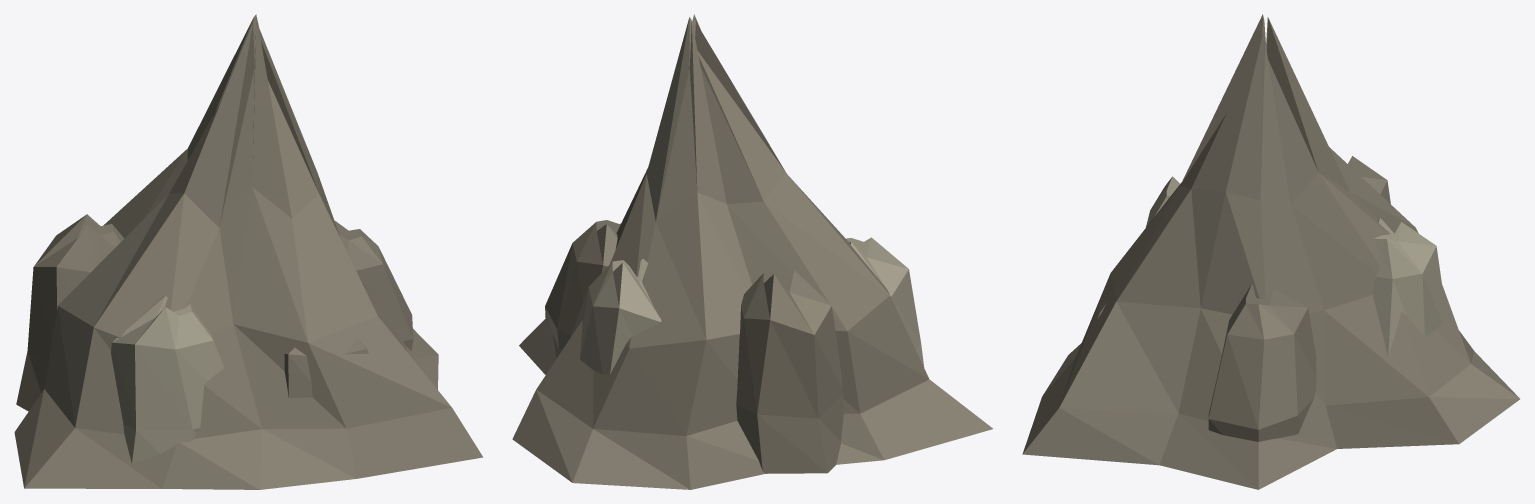
Rendered from rocky-peak.glb.
The picture shows the model from 3 angles, left to right: view 1: azimuth 30°, elevation 25°; view 2: azimuth 150°, elevation 25°; view 3: azimuth 270°, elevation 25°; orthographic projection. The views are drawn at different scales.
Parts seen in each view (by area): view 1: rocky-peak; view 2: rocky-peak; view 3: rocky-peak.
Boxes of the visible parts, bbox=[...] form: rocky-peak: bbox=[14, 14, 483, 489]; rocky-peak: bbox=[512, 14, 992, 489]; rocky-peak: bbox=[1022, 14, 1519, 489].
Size of the model in its own units: 7.77 by 6.33 by 7.38.
